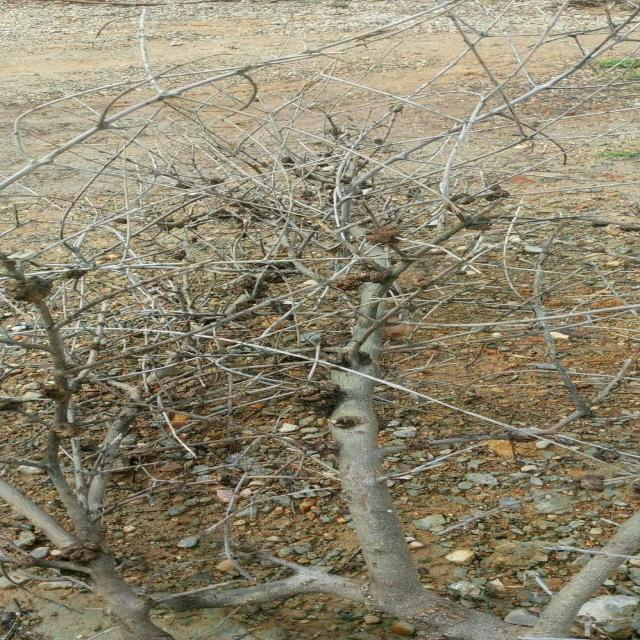Tuberculosis: (290, 382, 364, 428), (332, 261, 391, 292), (7, 277, 52, 304), (322, 347, 372, 371), (59, 542, 99, 566), (364, 227, 400, 248), (12, 548, 48, 568), (46, 421, 82, 439), (38, 384, 70, 402), (463, 214, 493, 232), (482, 184, 509, 203), (59, 269, 87, 280), (450, 193, 475, 205), (590, 219, 621, 228), (618, 224, 640, 232)
